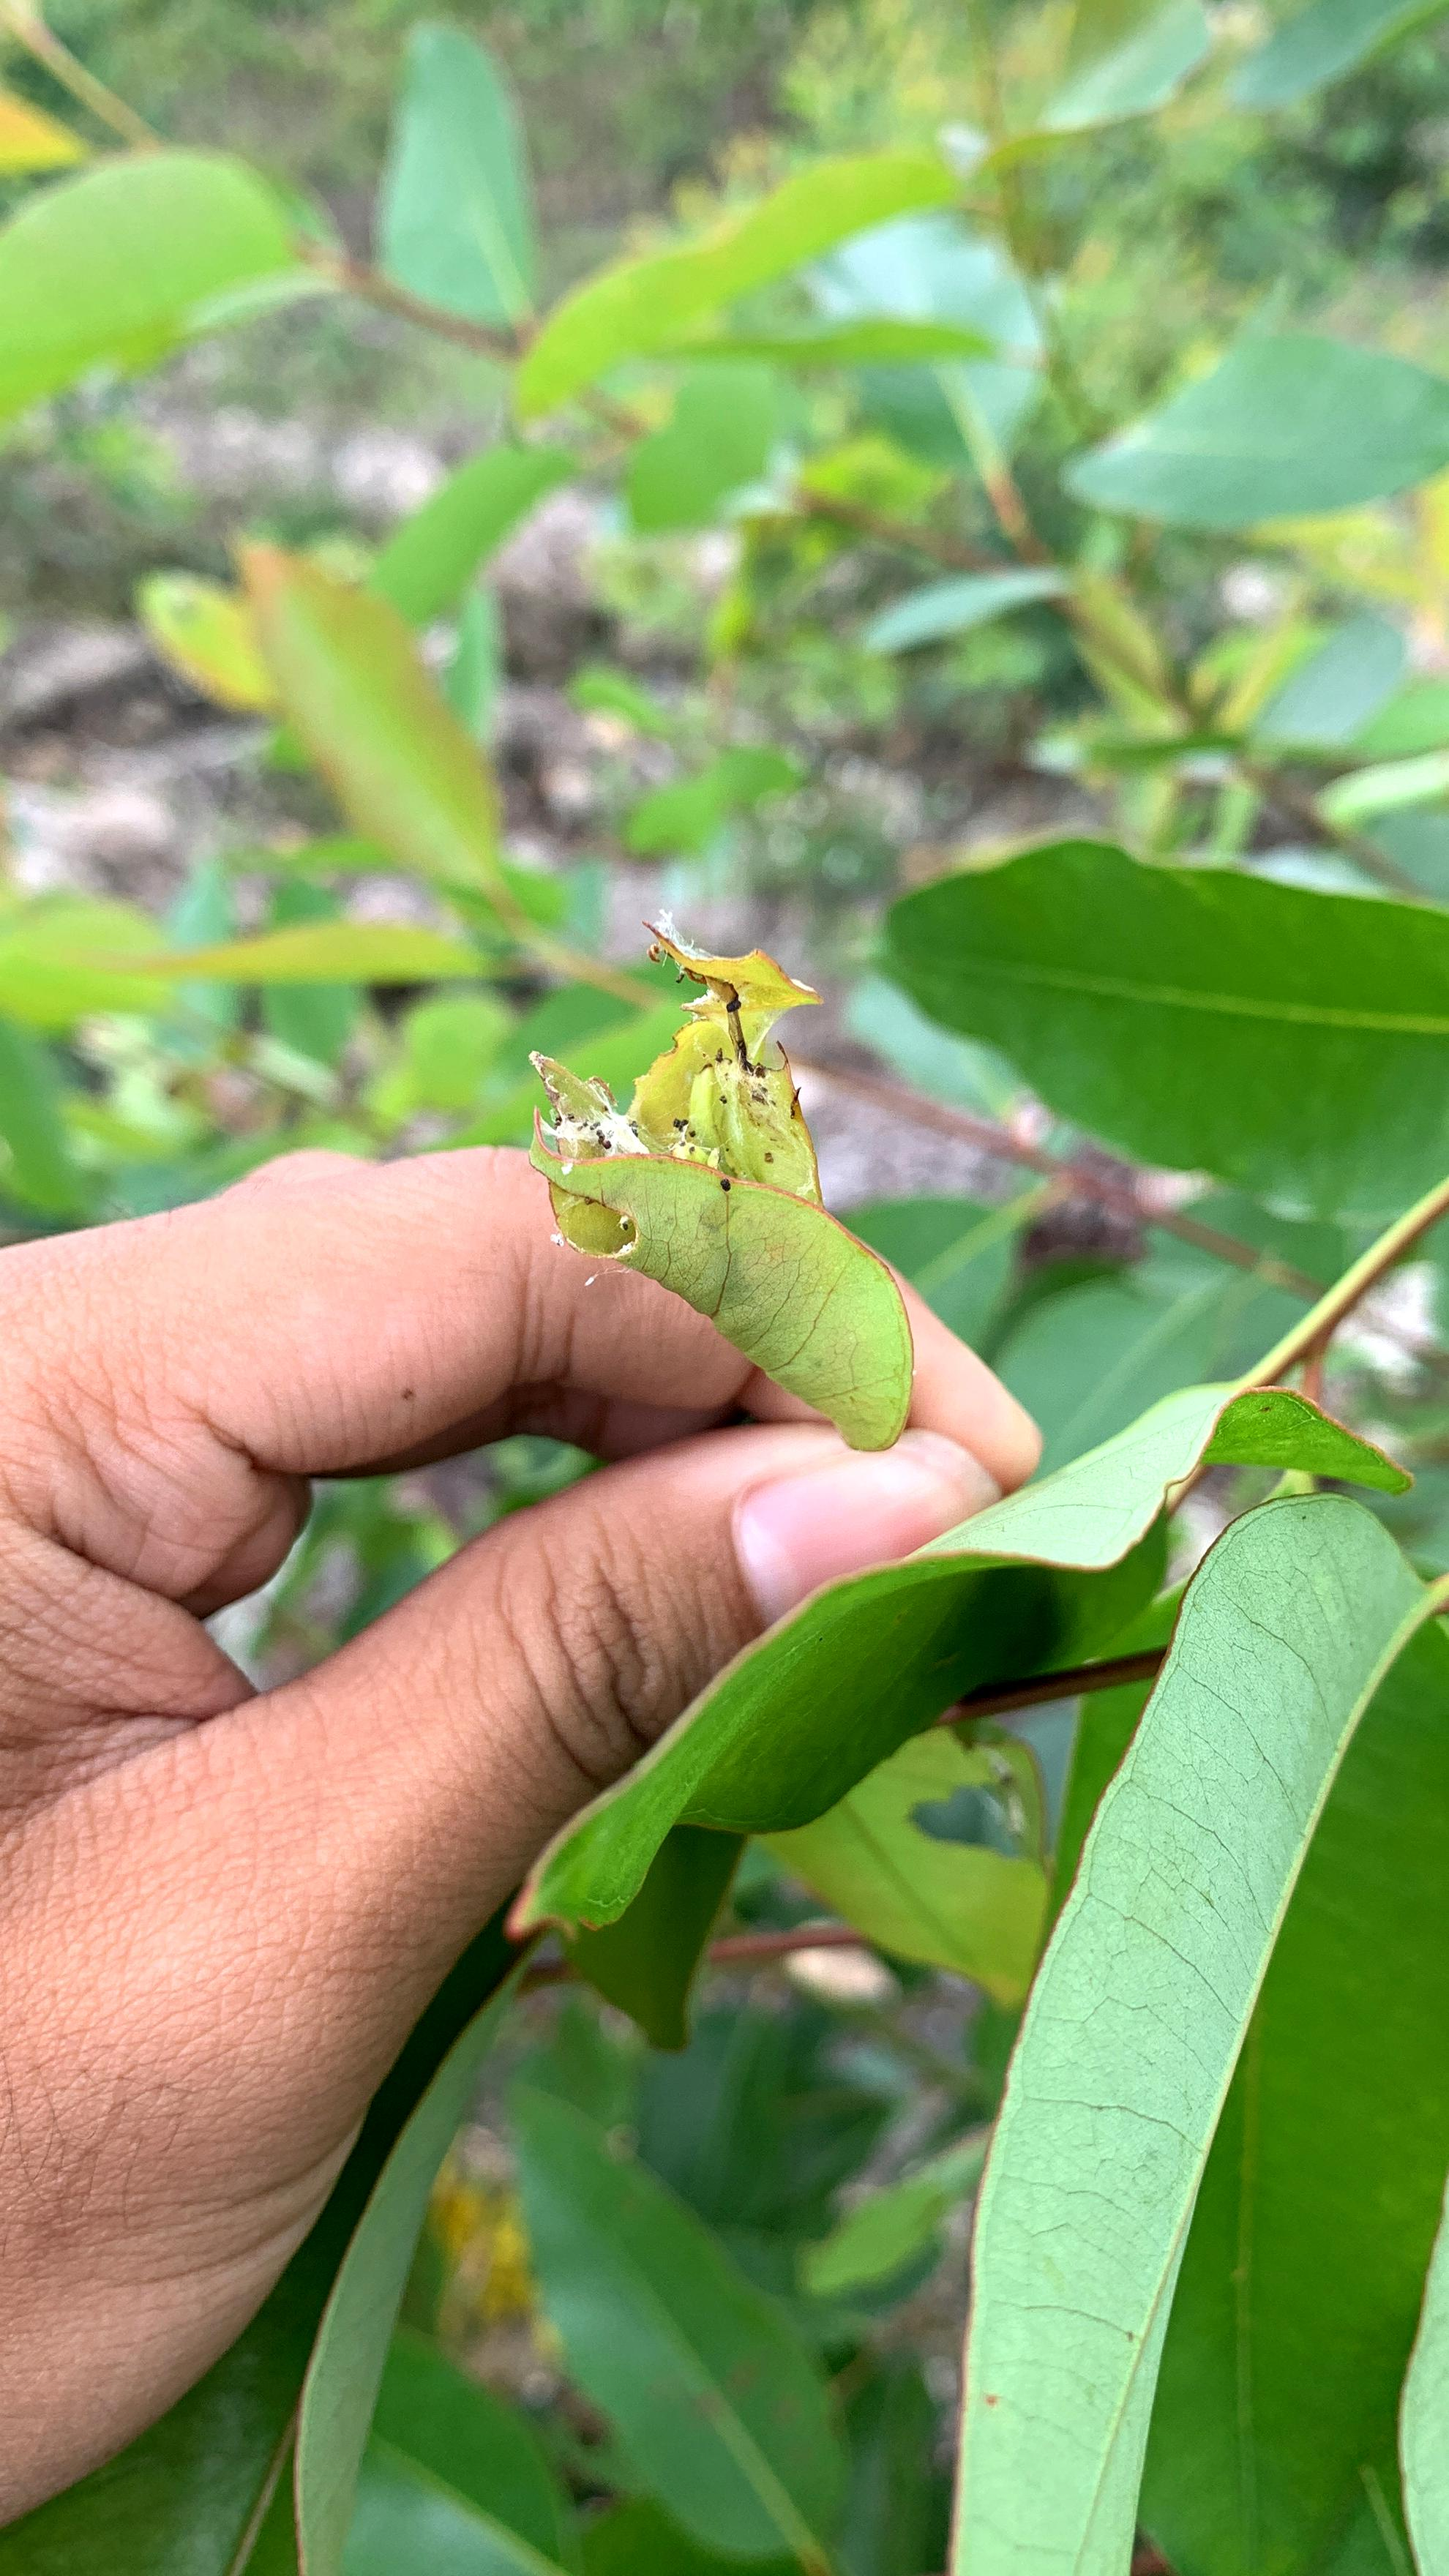Leaf Roller - Leaf: (513, 978, 947, 1392)
